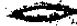Mouth: (5, 3, 77, 24)
